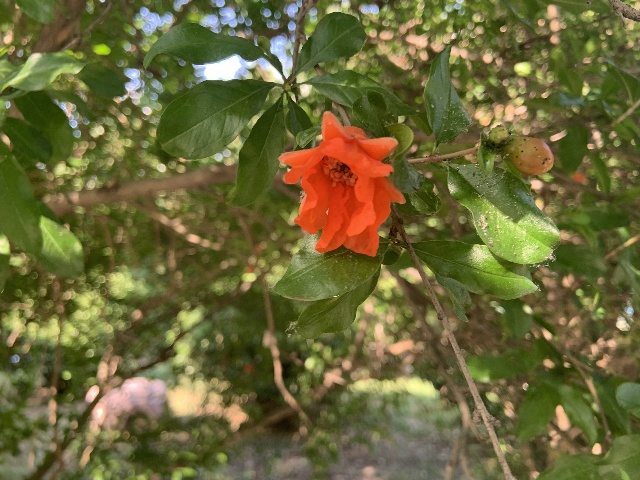bud: (504, 134, 554, 175)
flower: (278, 110, 405, 257)
